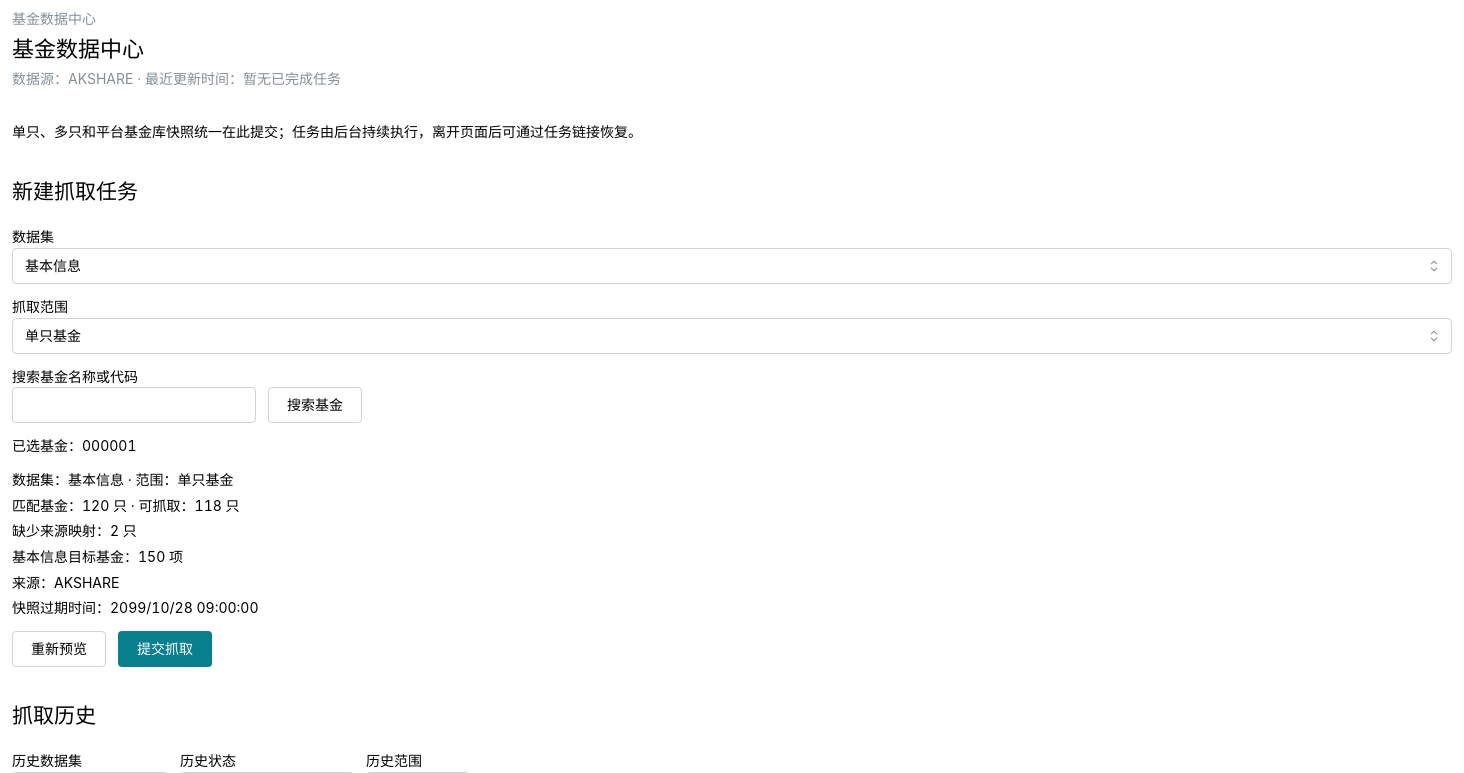
Test: fund data center › reuses the idempotency key when the first submission response fails
Expected: the text "缺少来源映射：2 只" is shown, [12, 522, 137, 539]
Click the button "提交抓取" at (165, 649), box [118, 631, 212, 667]
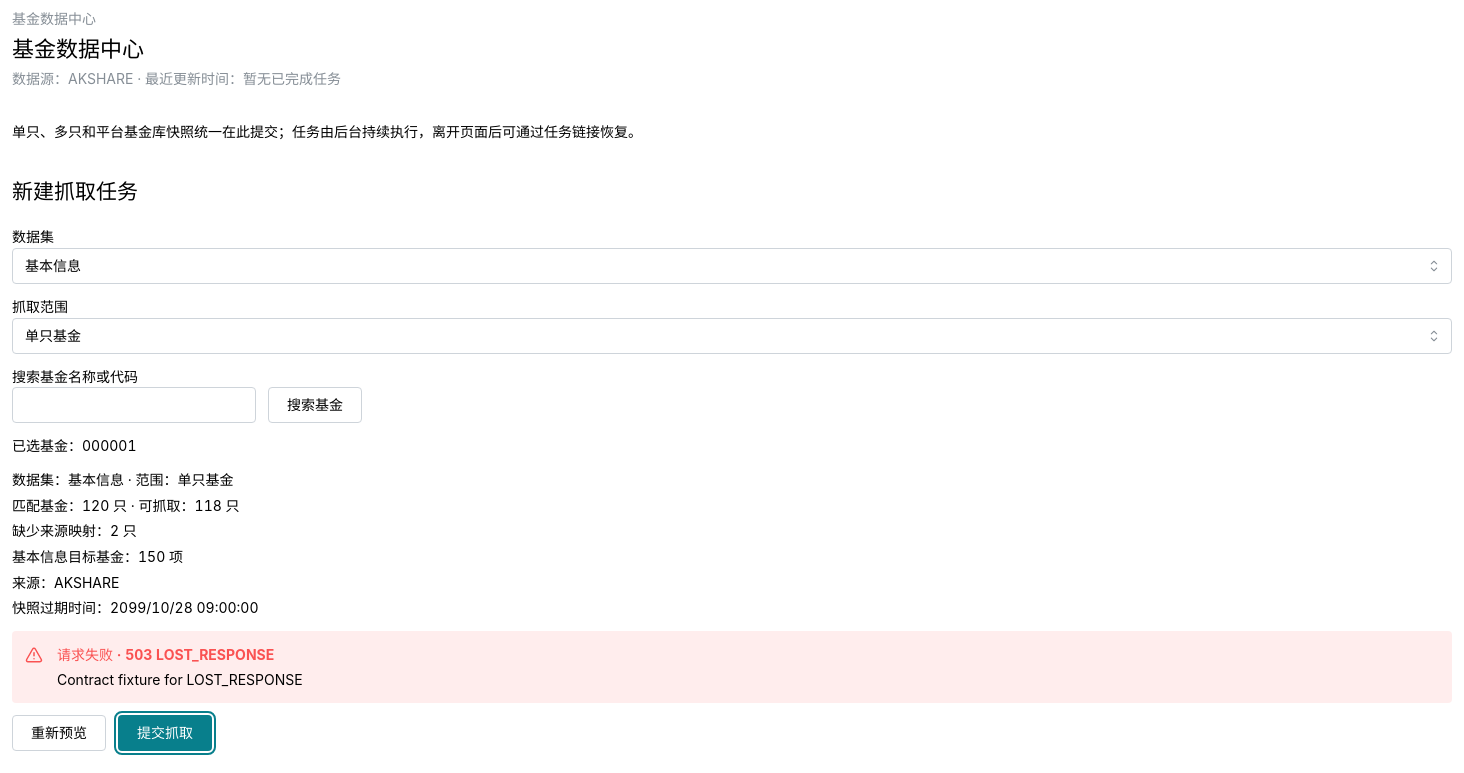
Now the text "Contract fixture for LOST_RESPONSE" is shown, box [57, 671, 303, 688]
Click the button "提交抓取" at (165, 733), box [118, 715, 212, 751]
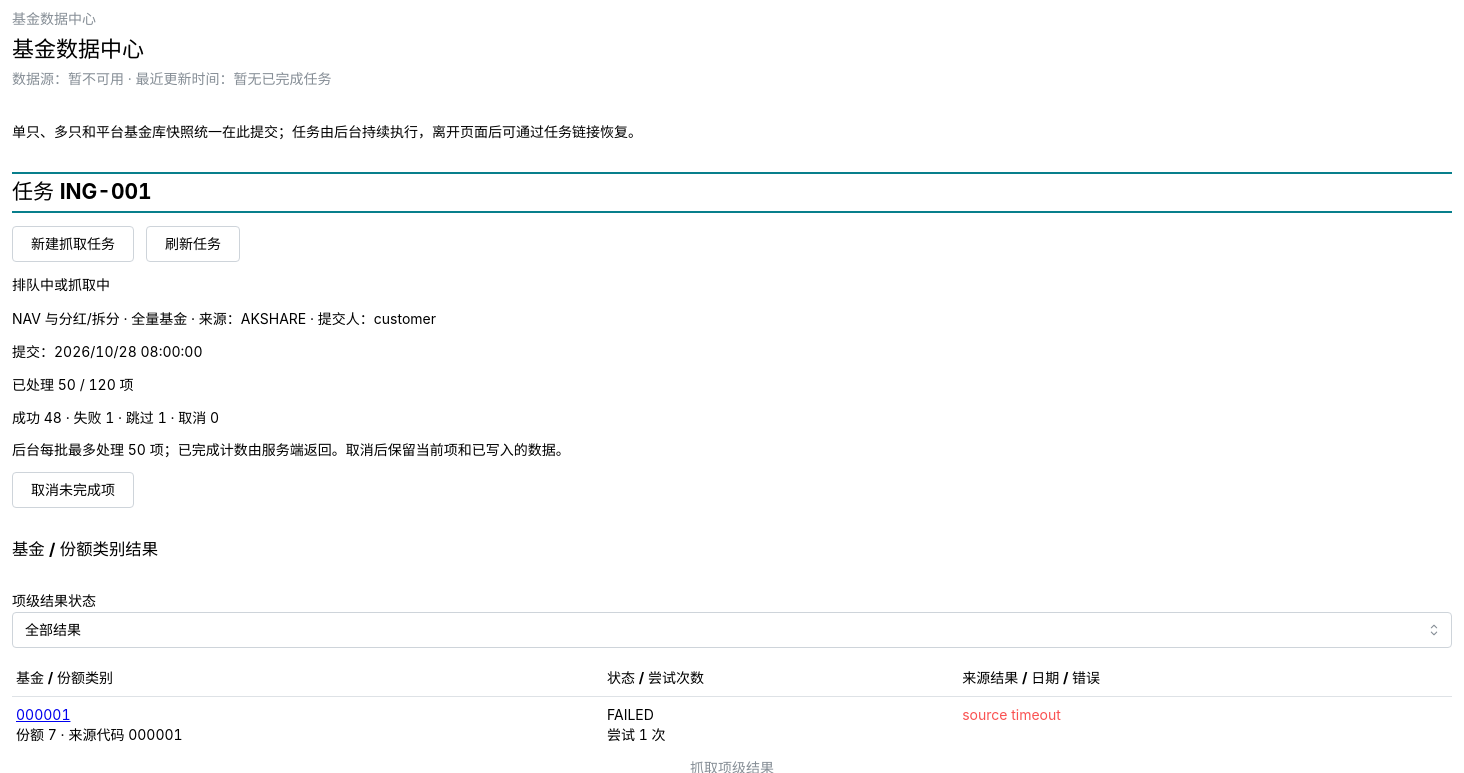
Now the heading "任务 ING-001" is shown, box [12, 179, 152, 204]
